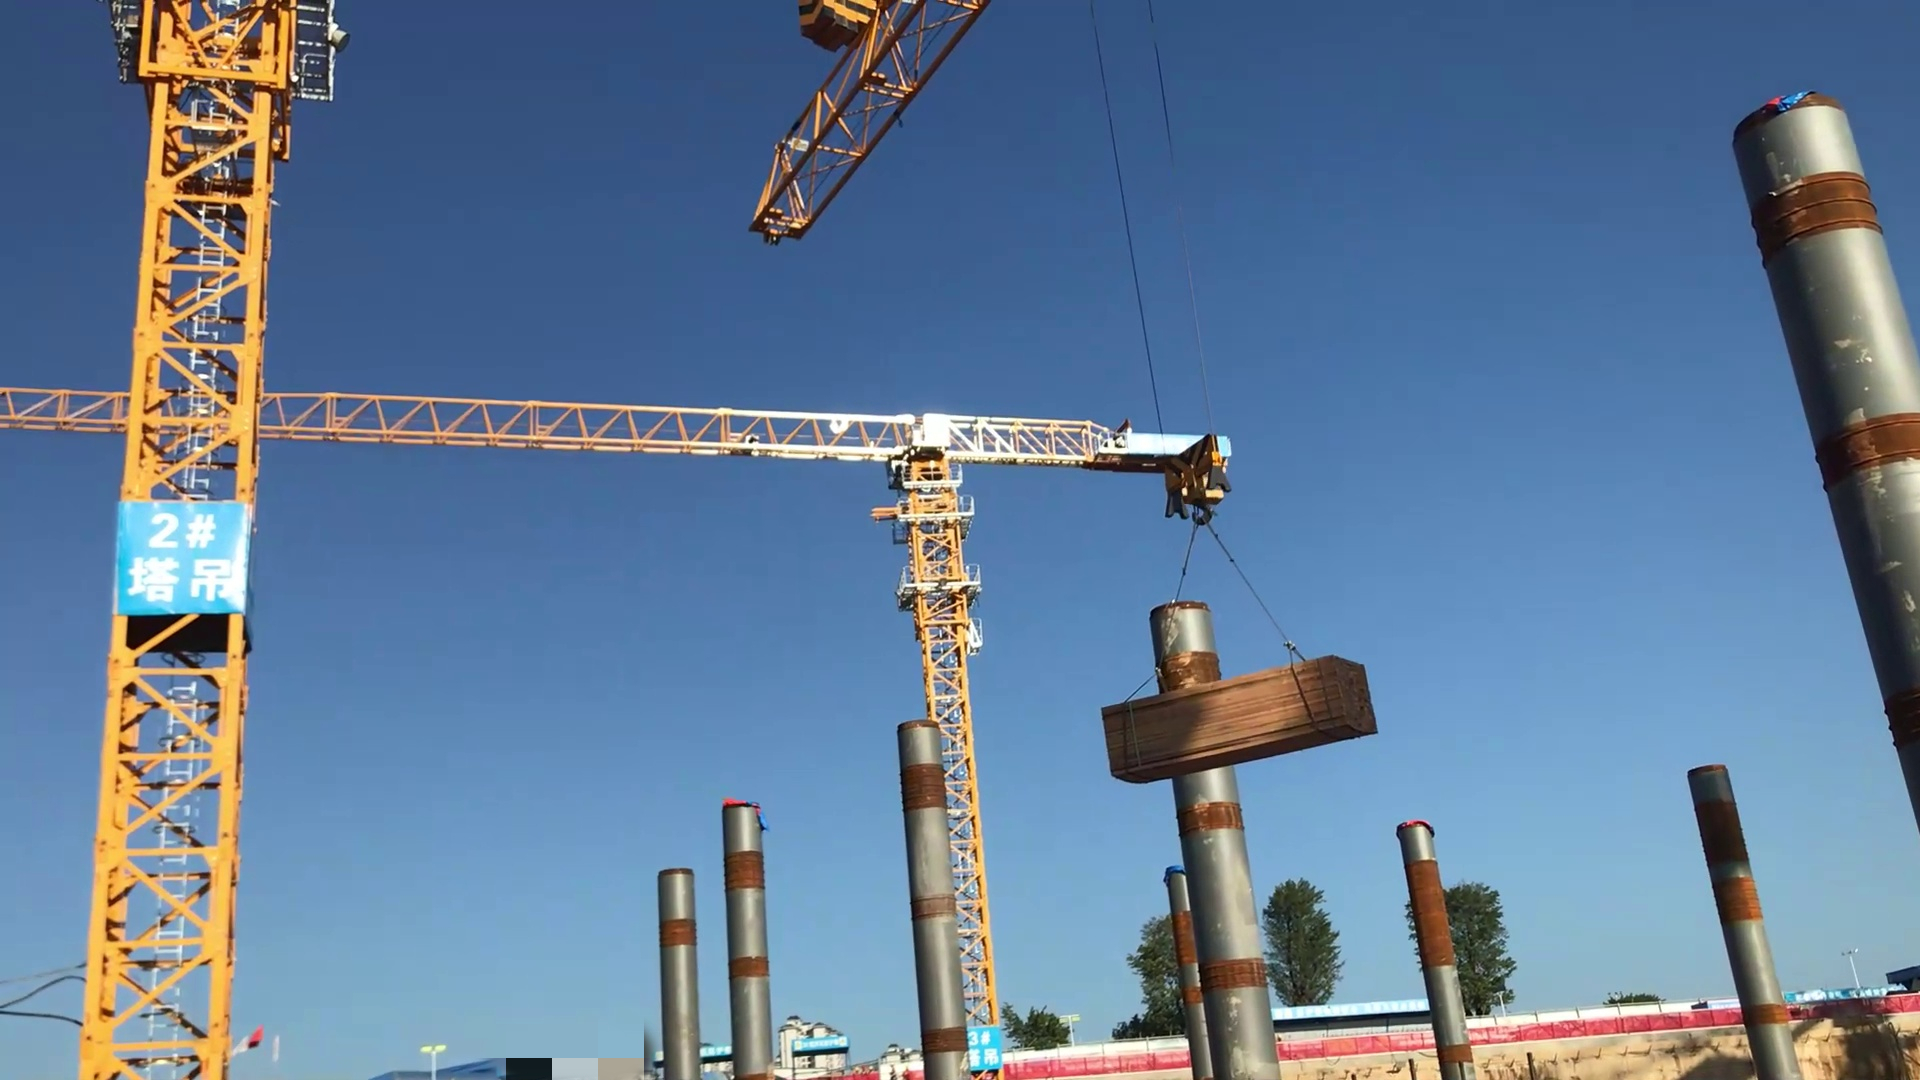hook: (1162, 422, 1221, 516)
wood: (1059, 641, 1406, 800)
